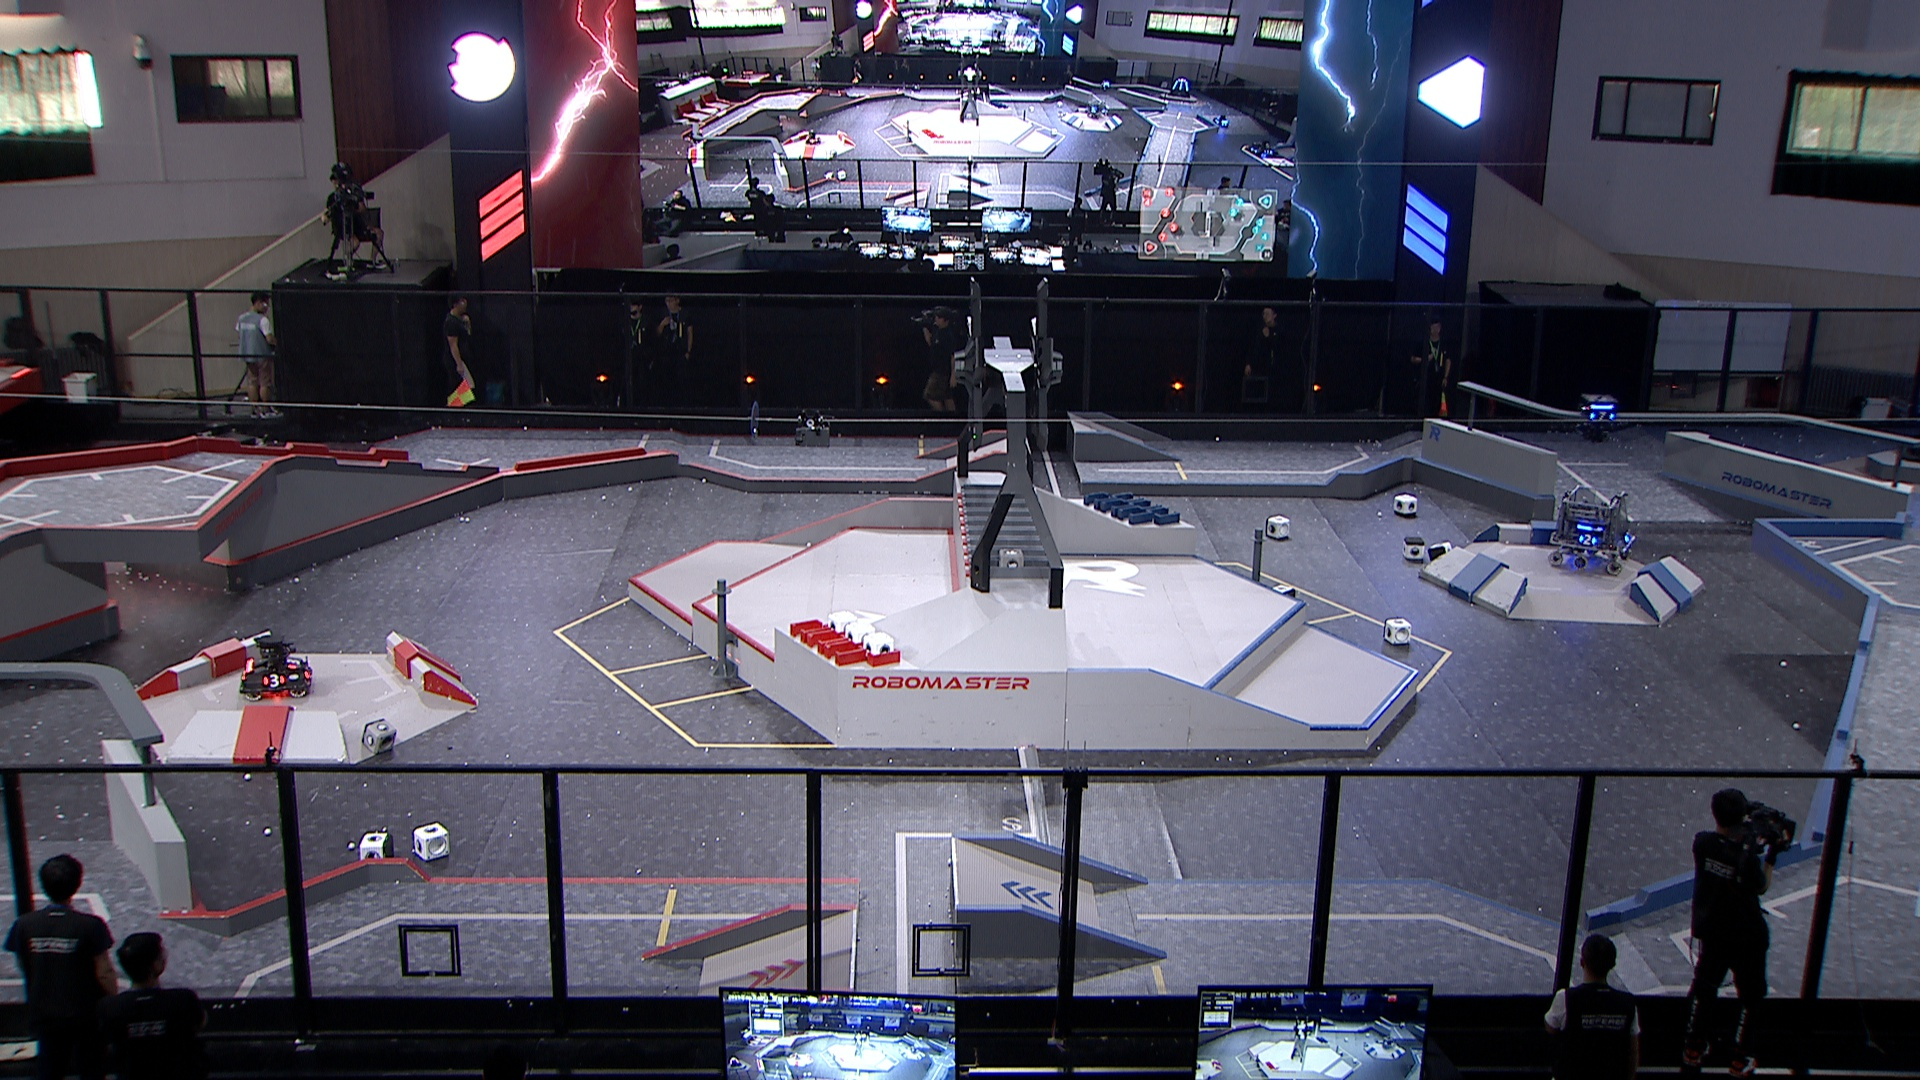armor: (258, 671, 286, 688), (1586, 410, 1615, 425), (1575, 533, 1600, 549), (285, 655, 302, 670)
car: (1547, 484, 1640, 572), (231, 633, 315, 699)
watcher: (1576, 394, 1622, 444)
